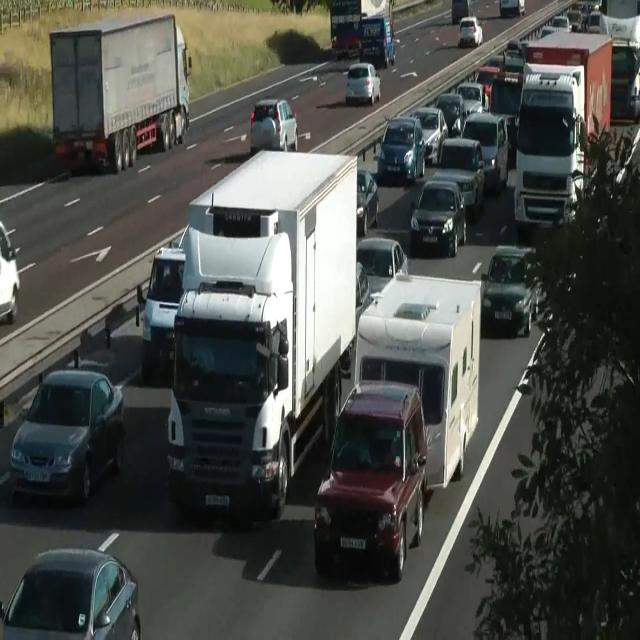bus: (9, 367, 125, 504), (1, 547, 140, 639), (480, 243, 540, 337), (410, 179, 466, 257), (340, 260, 370, 378), (356, 236, 408, 302), (489, 71, 523, 152), (250, 98, 298, 154), (406, 106, 448, 165), (610, 40, 640, 120), (0, 220, 20, 324), (614, 130, 640, 194), (345, 62, 381, 106), (356, 167, 378, 236), (434, 91, 466, 138), (474, 65, 500, 109), (456, 82, 488, 116), (457, 16, 483, 48), (540, 15, 572, 39), (355, 260, 369, 312), (499, 0, 525, 17), (452, 0, 470, 24), (585, 10, 601, 33), (506, 38, 522, 57)
jeep: (313, 379, 428, 581), (135, 244, 185, 377), (433, 136, 485, 216), (461, 110, 508, 192), (376, 116, 426, 183)
minibus: (166, 148, 358, 522), (353, 271, 481, 491), (48, 12, 192, 172), (513, 30, 612, 235), (329, 0, 395, 68), (358, 15, 395, 68), (330, 0, 362, 60)
